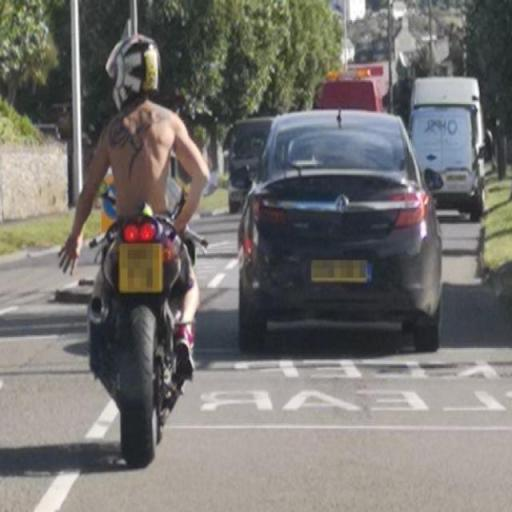Helmet: (106, 35, 159, 109)
Motor: (73, 213, 211, 476)
